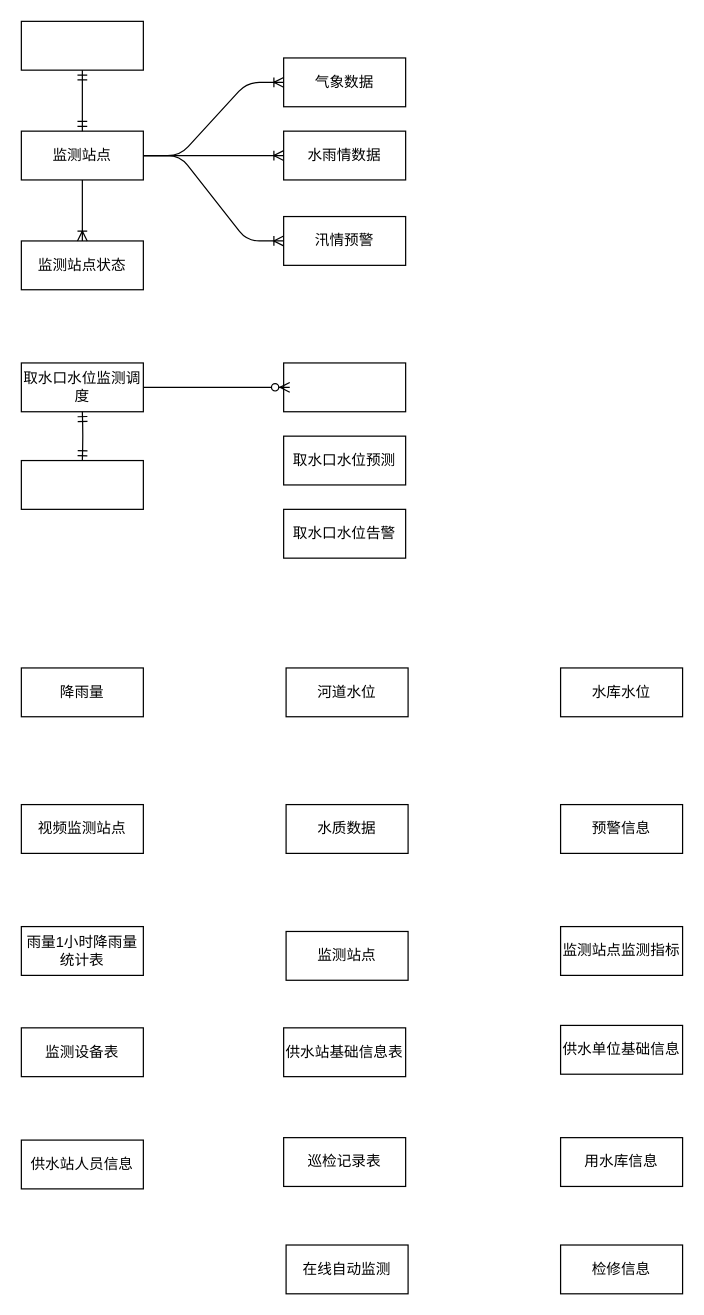
Image size: 704x1315. Some labels were removed from this diagram. The shapes that lost their labels are listed below. From the top down, each one's centre as x and y in pixels, then its label:
At (x=81, y=45): "监测站点指标".
At (x=344, y=387): "取水口临界事件".
At (x=81, y=484): "取水口预警规则".
